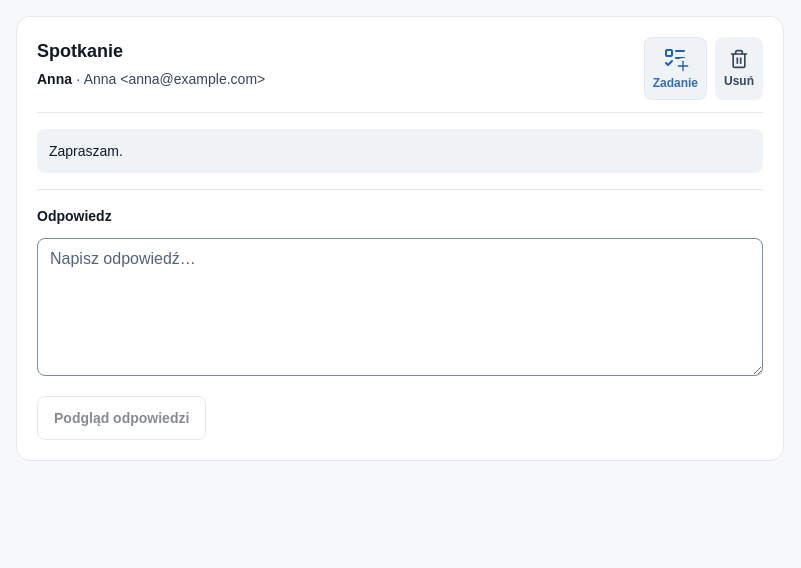
MessageDetail – odpowiedź › zmiana treści po podglądzie wymaga ponownego podglądu
Type "A" into the text box named "Treść odpowiedzi".
click(400, 307); type("A")  # box [37, 238, 763, 376]
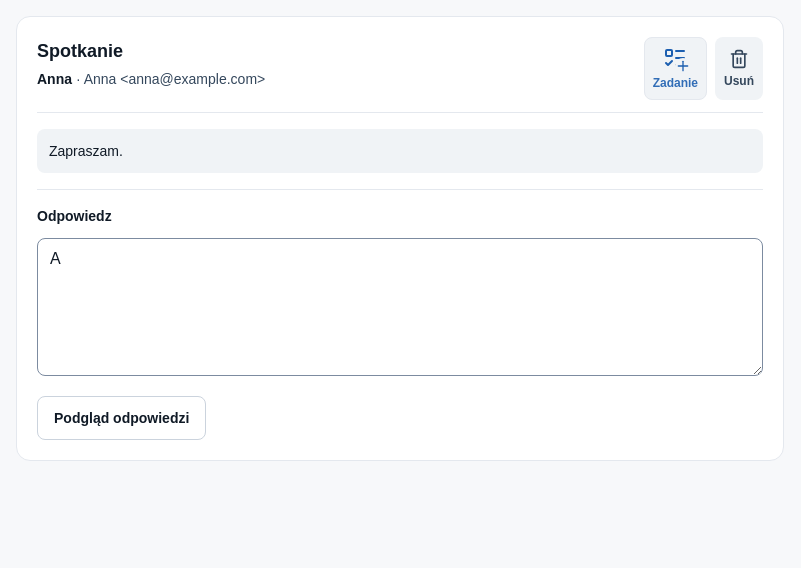
Click the button "Podgląd odpowiedzi".
click(122, 418)  # box [37, 396, 206, 440]
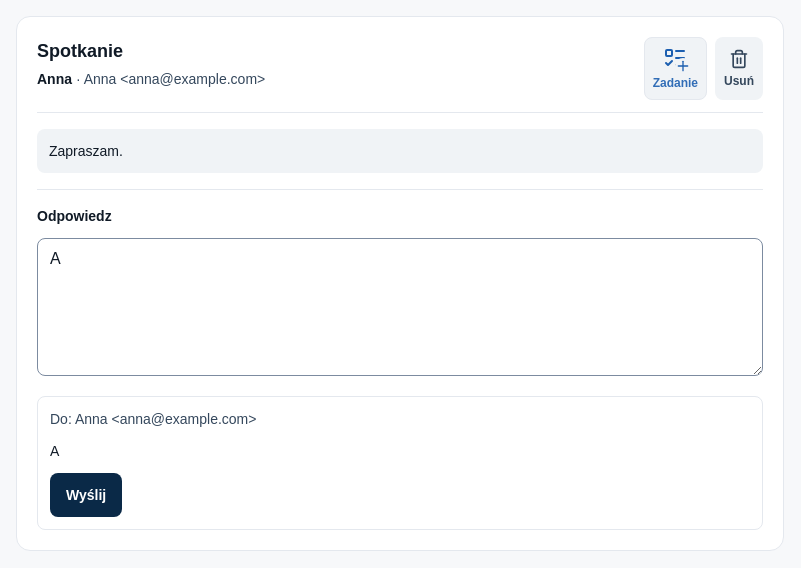
Replace the text in the text box named "Treść odpowiedzi" with "B" at (400, 307), box [37, 238, 763, 376]
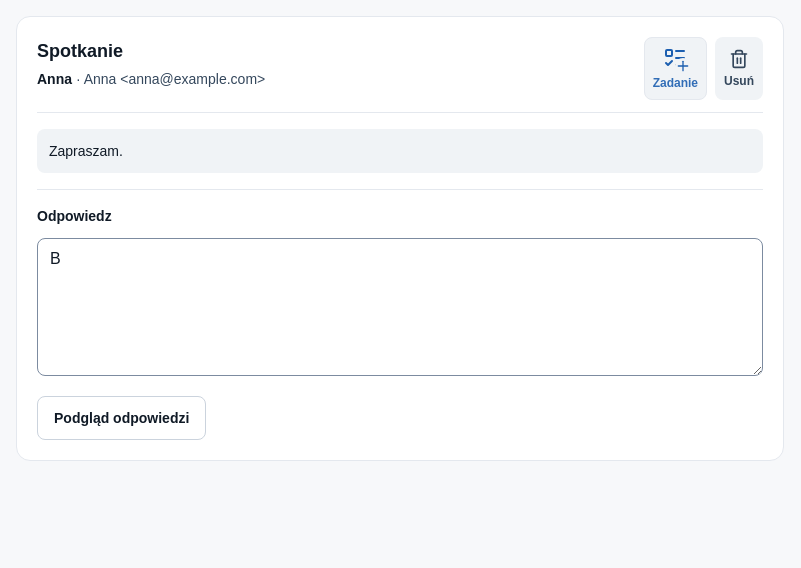
Expected: the button "Wyślij" is gone
